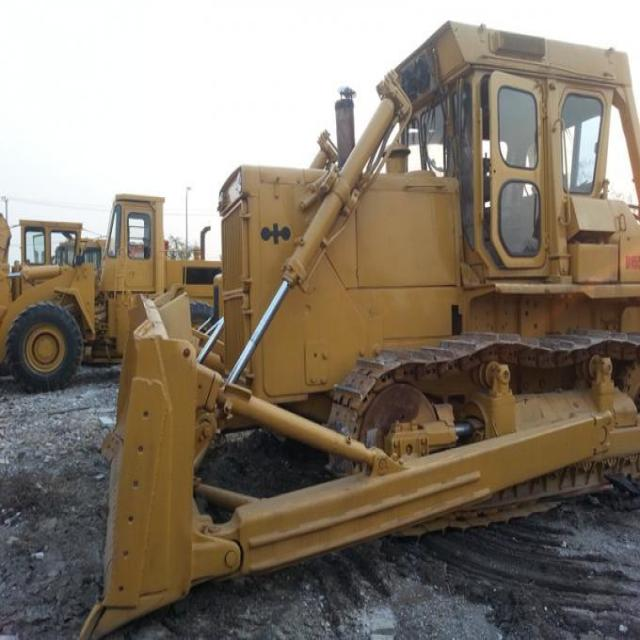buldozerpayloadergrader: (50, 9, 639, 635)
